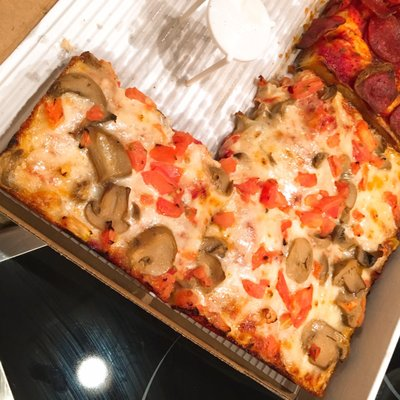sandwich: (1, 29, 399, 393)
